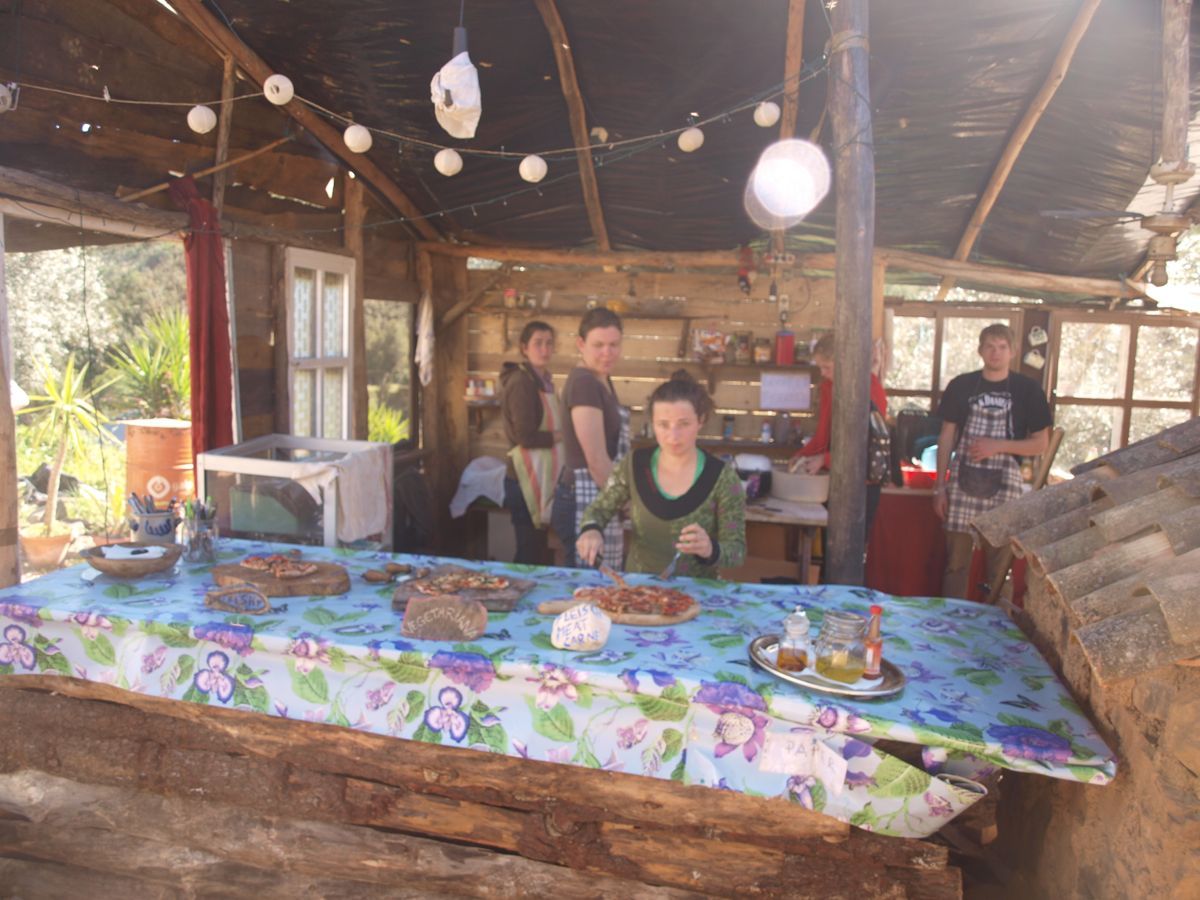Pizza: (574, 584, 700, 620), (411, 568, 513, 597), (238, 551, 319, 580)
